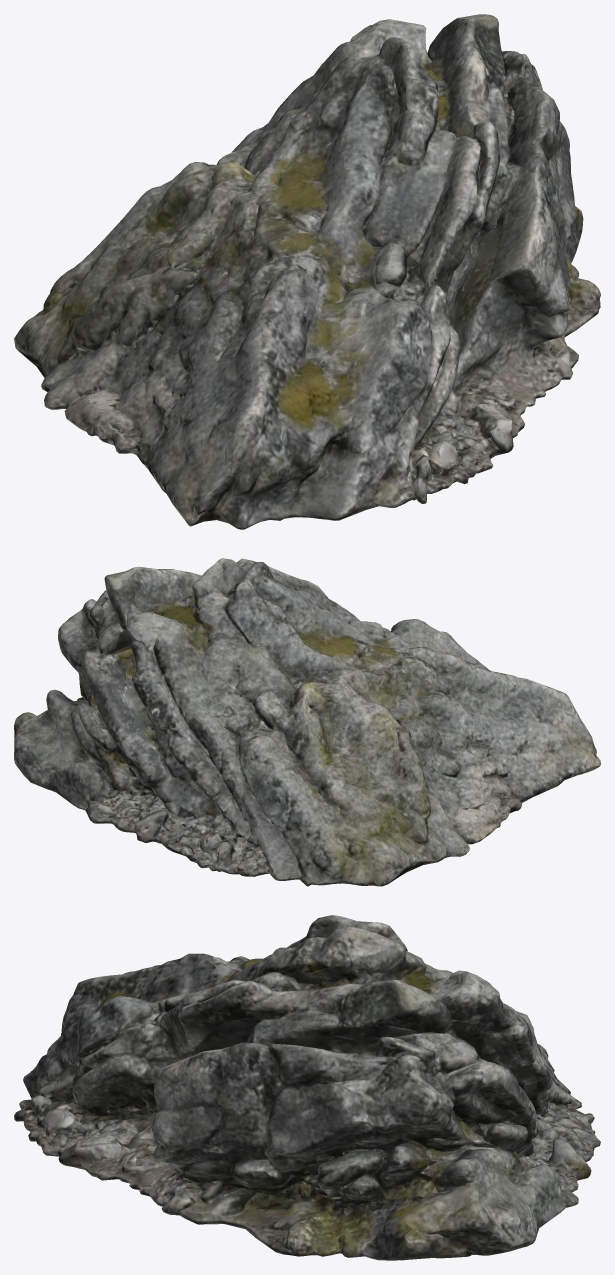
The model's file is fractured-outcrop-v5-lod.glb.
The picture shows the model from 3 angles, top to bottom: view 1: azimuth 30°, elevation 25°; view 2: azimuth 150°, elevation 25°; view 3: azimuth 270°, elevation 25°; orthographic projection. The views are drawn at different scales.
Parts seen in each view (by area): view 1: geometry_0; view 2: geometry_0; view 3: geometry_0.
Part boxes in pixels (x1,y1,x2,y2): geometry_0: (14, 14, 600, 529); geometry_0: (14, 558, 600, 886); geometry_0: (14, 915, 600, 1260).
Size of the model in its own units: 0.3196 by 0.1597 by 0.3086.
Materials: 1 (1 with a texture image).
